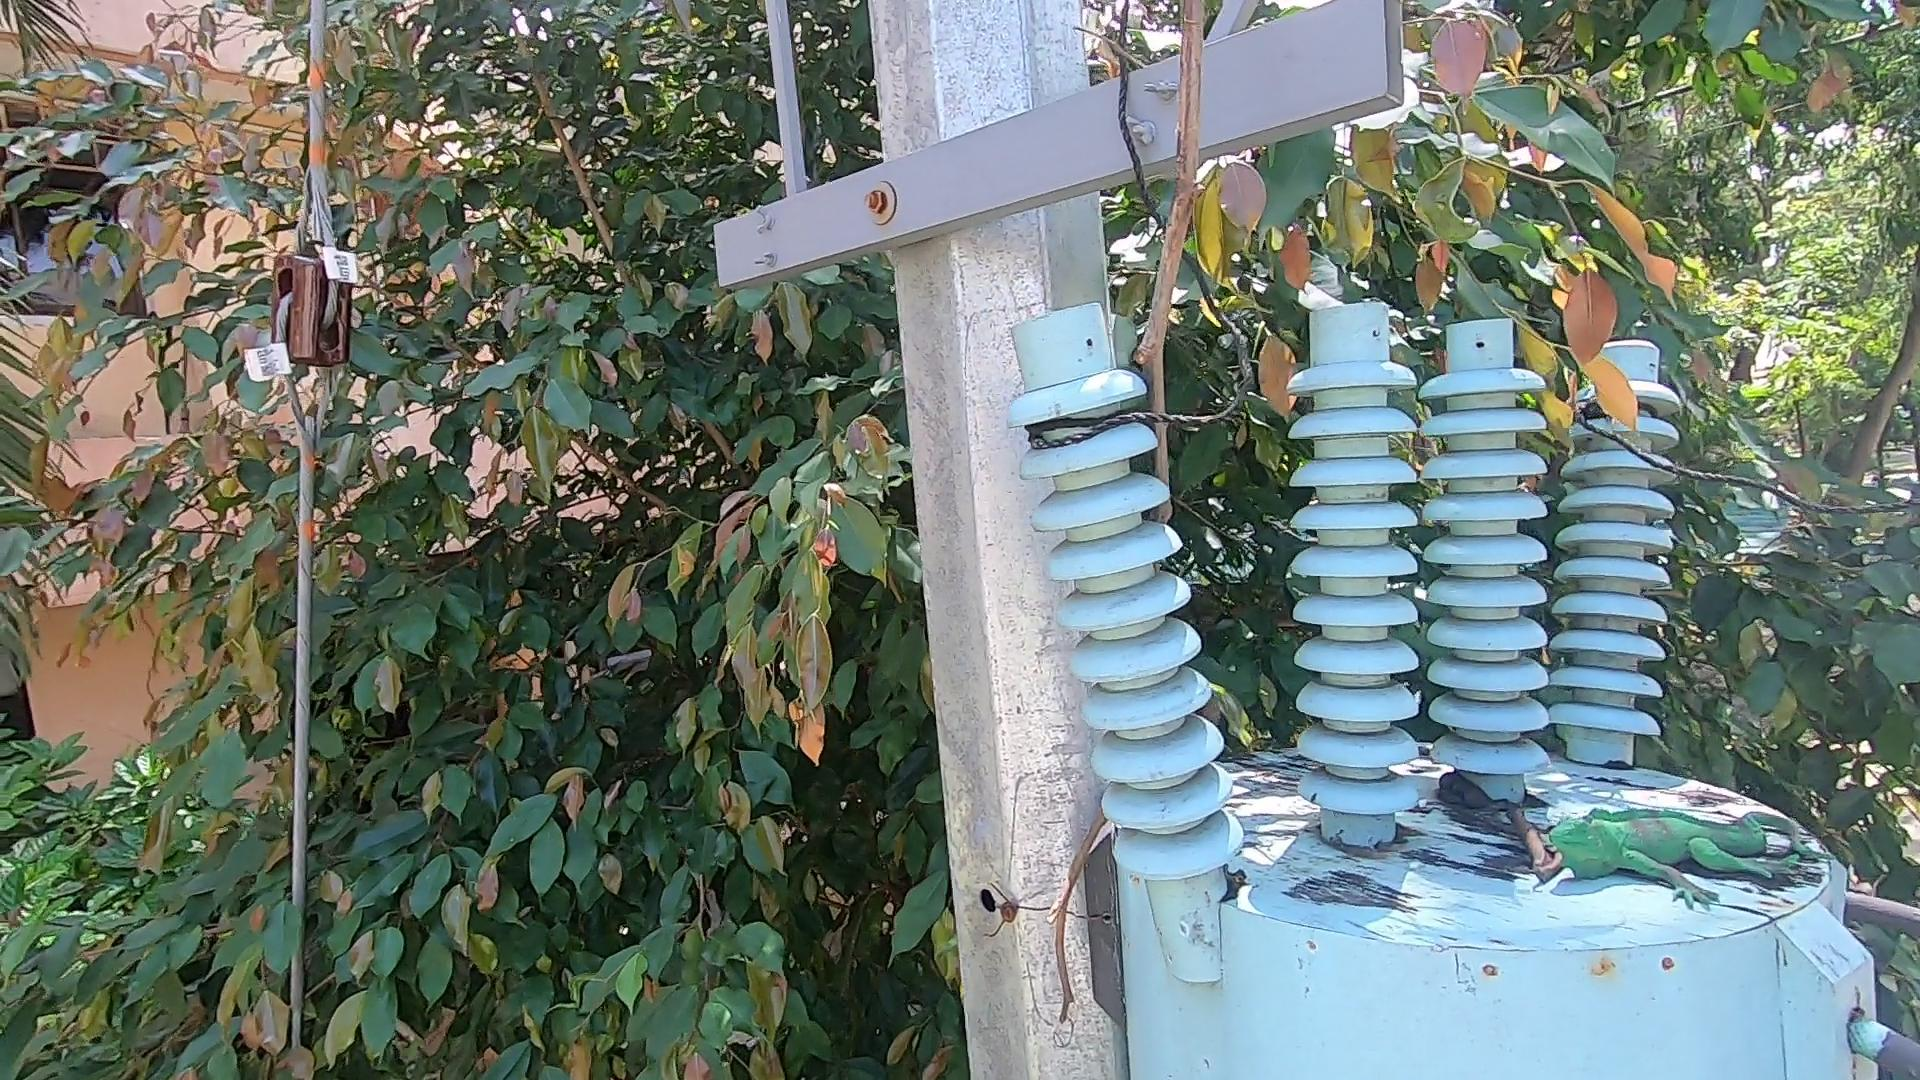branch with leaves: (1480, 301, 1673, 469)
leaf: (1509, 794, 1552, 889), (1443, 773, 1499, 816)
tree branch: (1051, 3, 1172, 1052)
